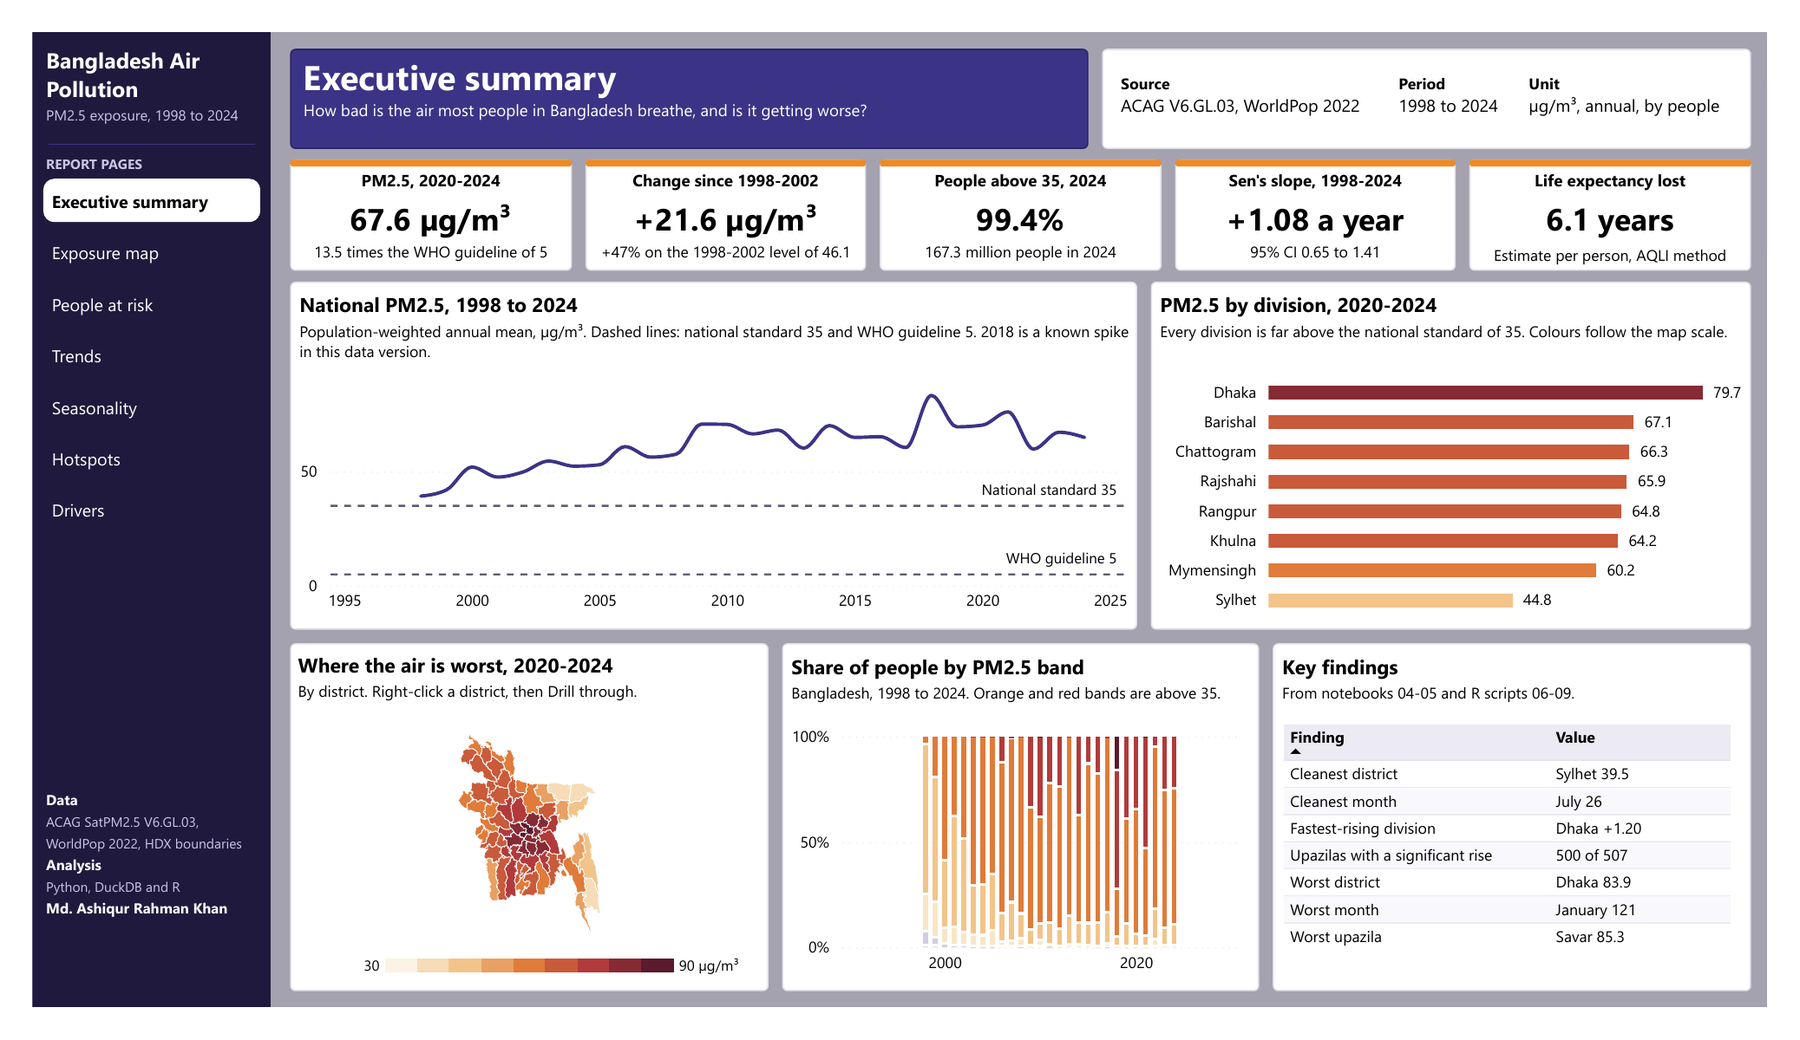

Layout of this report page (visuals, bound fields, positions):
{"tool":"powerbi","page":{"name":"Executive summary","canvas":[1280,720],"ordinal":0},"visuals":[{"type":"shape","box":[0,0,176,720],"z":1100},{"type":"textbox","box":[8,8,160,72],"z":1200},{"type":"shape","box":[12,82,152,1],"z":1300},{"type":"textbox","box":[8,86,160,20],"z":1400},{"type":"actionButton","box":[8,108,160,32],"z":1500},{"type":"actionButton","box":[8,146,160,32],"z":1600},{"type":"actionButton","box":[8,184,160,32],"z":1700},{"type":"actionButton","box":[8,222,160,32],"z":1800},{"type":"actionButton","box":[8,260,160,32],"z":1900},{"type":"actionButton","box":[8,298,160,32],"z":2000},{"type":"actionButton","box":[8,336,160,32],"z":2100},{"type":"textbox","box":[8,556,160,156],"z":2200},{"type":"shape","box":[190,12,589.1,74],"z":2300},{"type":"textbox","box":[198,14,573.1,70],"z":2400},{"type":"shape","box":[789.1,12,478.9,74],"z":2500},{"type":"textbox","box":[801.1,27,194.6,44],"z":2600},{"type":"textbox","box":[1005.7,27,86.1,44],"z":2700},{"type":"textbox","box":[1101.8,27,154.2,44],"z":2800},{"type":"shape","box":[190,94,207.6,82],"z":2900},{"type":"shape","box":[190,94,207.6,5],"z":3000},{"type":"card","title":"PM2.5, 2020-2024","fields":{"Values":["_Measures.KPI PM25 Recent"]},"box":[194,99,199.6,58],"z":3100},{"type":"card","fields":{"Values":["_Measures.Sub PM25 Recent"]},"box":[193,156,201.6,18],"z":3200},{"type":"shape","box":[407.6,94,207.6,82],"z":3300},{"type":"shape","box":[407.6,94,207.6,5],"z":3400},{"type":"card","title":"Change since 1998-2002","fields":{"Values":["_Measures.KPI Change Period"]},"box":[411.6,99,199.6,58],"z":3500},{"type":"card","fields":{"Values":["_Measures.Sub Change Period"]},"box":[410.6,156,201.6,18],"z":3600},{"type":"shape","box":[625.2,94,207.6,82],"z":3700},{"type":"shape","box":[625.2,94,207.6,5],"z":3800},{"type":"card","fields":{"Values":["_Measures.KPI Above35"]},"box":[629.2,99,199.6,58],"z":3900},{"type":"card","fields":{"Values":["_Measures.Sub Above35"]},"box":[628.2,156,201.6,18],"z":4000},{"type":"shape","box":[842.8,94,207.6,82],"z":4100},{"type":"shape","box":[842.8,94,207.6,5],"z":4200},{"type":"card","title":"Sen''s slope, 1998-2024","fields":{"Values":["_Measures.KPI Sen"]},"box":[846.8,99,199.6,58],"z":4300},{"type":"card","fields":{"Values":["_Measures.Sub Sen"]},"box":[845.8,156,201.6,18],"z":4400},{"type":"shape","box":[1060.4,94,207.6,82],"z":4500},{"type":"shape","box":[1060.4,94,207.6,5],"z":4600},{"type":"card","title":"Life expectancy lost","fields":{"Values":["_Measures.KPI Years Lost"]},"box":[1064.4,99,199.6,58],"z":4700},{"type":"textbox","box":[1063.4,155,201.6,20],"z":4800},{"type":"lineChart","title":"National PM2.5, 1998 to 2024","fields":{"Category":["dim_year.year"],"Y":["_Measures.PM25 National"]},"box":[190,184,624.7,257],"z":4900},{"type":"clusteredBarChart","title":"PM2.5 by division, 2020-2024","fields":{"Category":["dim_geo.name"],"Y":["_Measures.PM25 Recent"]},"box":[824.7,184,443.3,257],"z":5000},{"type":"shape","box":[190,451,352.7,257],"z":5100},{"type":"shapeMap","title":"Where the air is worst, 2020-2024","fields":{"Category":["dim_geo.district"],"Y":["_Measures.PM25 Recent"]},"box":[190,451,352.7,227],"z":5200},{"type":"shape","box":[260,684,24.1,10],"z":5300},{"type":"shape","box":[283.6,684,24.1,10],"z":5400},{"type":"shape","box":[307.3,684,24.1,10],"z":5500},{"type":"shape","box":[330.9,684,24.1,10],"z":5600},{"type":"shape","box":[354.5,684,24.1,10],"z":5700},{"type":"shape","box":[378.1,684,24.1,10],"z":5800},{"type":"shape","box":[401.8,684,24.1,10],"z":5900},{"type":"shape","box":[425.4,684,24.1,10],"z":6000},{"type":"shape","box":[449,684,24.1,10],"z":6100},{"type":"textbox","box":[200,680,56,18],"z":6200},{"type":"textbox","box":[476.7,680,56,18],"z":6300},{"type":"columnChart","title":"Share of people by PM2.5 band","fields":{"Category":["dim_year.year"],"Series":["dim_band.band"],"Y":["_Measures.Band Share National"]},"box":[552.7,451,352.7,257],"z":6400},{"type":"tableEx","title":"Key findings","fields":{"Values":["findings.short","findings.short_value"]},"box":[915.3,451,352.7,257],"z":6500}]}

Visuals, with their boxes in screenshot pixels (x1, y1, x2, y2), scaled from the page's 1280x720 canvas onto the 1800x1040 screenshot:
shape: bbox(0, 0, 248, 1039)
textbox: bbox(11, 12, 236, 116)
shape: bbox(17, 118, 231, 120)
textbox: bbox(11, 124, 236, 153)
actionButton: bbox(11, 156, 236, 202)
actionButton: bbox(11, 211, 236, 257)
actionButton: bbox(11, 266, 236, 312)
actionButton: bbox(11, 321, 236, 367)
actionButton: bbox(11, 376, 236, 422)
actionButton: bbox(11, 430, 236, 477)
actionButton: bbox(11, 485, 236, 532)
textbox: bbox(11, 803, 236, 1028)
shape: bbox(267, 17, 1096, 124)
textbox: bbox(278, 20, 1084, 121)
shape: bbox(1110, 17, 1783, 124)
textbox: bbox(1127, 39, 1400, 103)
textbox: bbox(1414, 39, 1535, 103)
textbox: bbox(1549, 39, 1766, 103)
shape: bbox(267, 136, 559, 254)
shape: bbox(267, 136, 559, 143)
"PM2.5, 2020-2024" card: bbox(273, 143, 554, 227)
card - _Measures.Sub PM25 Recent: bbox(271, 225, 555, 251)
shape: bbox(573, 136, 865, 254)
shape: bbox(573, 136, 865, 143)
"Change since 1998-2002" card: bbox(579, 143, 860, 227)
card - _Measures.Sub Change Period: bbox(577, 225, 861, 251)
shape: bbox(879, 136, 1171, 254)
shape: bbox(879, 136, 1171, 143)
card - _Measures.KPI Above35: bbox(885, 143, 1166, 227)
card - _Measures.Sub Above35: bbox(883, 225, 1167, 251)
shape: bbox(1185, 136, 1477, 254)
shape: bbox(1185, 136, 1477, 143)
"Sen''s slope, 1998-2024" card: bbox(1191, 143, 1471, 227)
card - _Measures.Sub Sen: bbox(1189, 225, 1473, 251)
shape: bbox(1491, 136, 1783, 254)
shape: bbox(1491, 136, 1783, 143)
"Life expectancy lost" card: bbox(1497, 143, 1778, 227)
textbox: bbox(1495, 224, 1779, 253)
"National PM2.5, 1998 to 2024" lineChart: bbox(267, 266, 1146, 637)
"PM2.5 by division, 2020-2024" clusteredBarChart: bbox(1160, 266, 1783, 637)
shape: bbox(267, 651, 763, 1023)
"Where the air is worst, 2020-2024" shapeMap: bbox(267, 651, 763, 979)
shape: bbox(366, 988, 400, 1002)
shape: bbox(399, 988, 433, 1002)
shape: bbox(432, 988, 466, 1002)
shape: bbox(465, 988, 499, 1002)
shape: bbox(499, 988, 532, 1002)
shape: bbox(532, 988, 566, 1002)
shape: bbox(565, 988, 599, 1002)
shape: bbox(598, 988, 632, 1002)
shape: bbox(631, 988, 665, 1002)
textbox: bbox(281, 982, 360, 1008)
textbox: bbox(670, 982, 749, 1008)
"Share of people by PM2.5 band" columnChart: bbox(777, 651, 1273, 1023)
"Key findings" tableEx: bbox(1287, 651, 1783, 1023)
